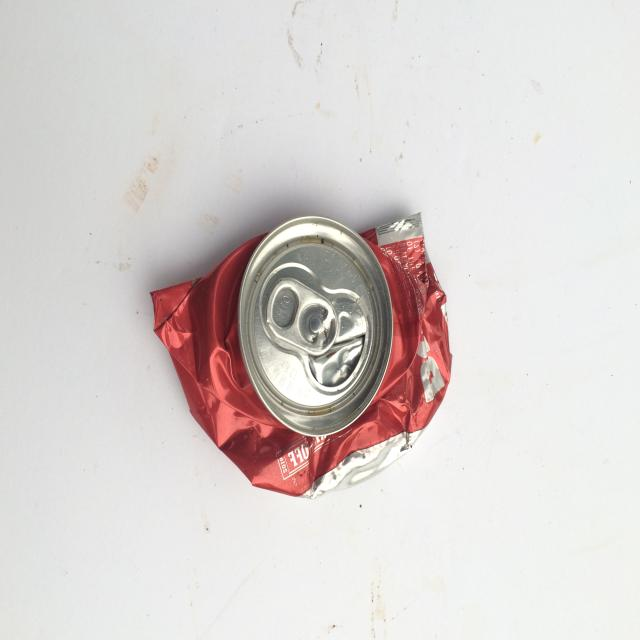metal: (237, 214, 394, 437)
